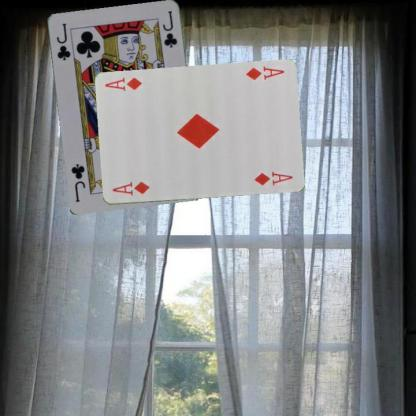Ad: (242, 64, 286, 82), (109, 179, 151, 197)
Jc: (53, 20, 72, 61)
